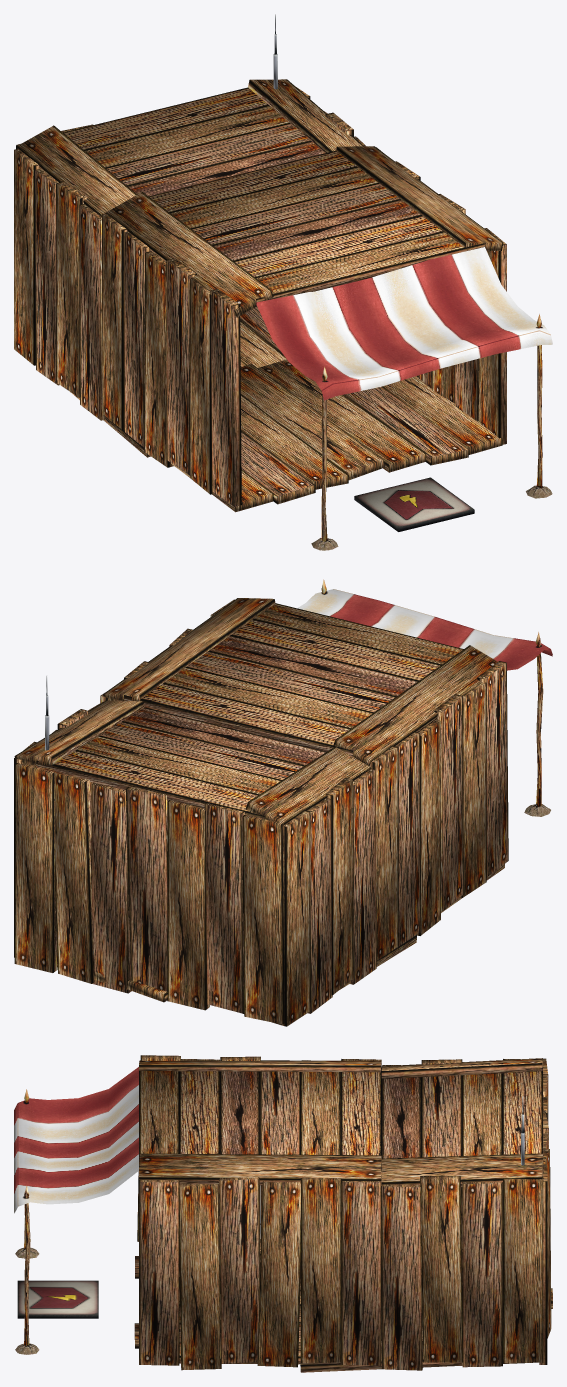
Rendered from coconutShy.fbx.
3 views of the same model, one above another, from view 1: azimuth 30°, elevation 25°; view 2: azimuth 150°, elevation 25°; view 3: azimuth 270°, elevation 25° (orthographic). The views are drawn at different scales.
Parts seen in each view (by area): view 1: coconutShy, mat; view 2: coconutShy; view 3: coconutShy, mat.
Boxes of the visible parts, x1,y1,x2,y2 form: coconutShy: [14, 14, 552, 550]; mat: [354, 477, 474, 531]; coconutShy: [14, 579, 552, 1026]; coconutShy: [14, 1055, 552, 1372]; mat: [17, 1280, 98, 1318].
Bounding box in the file's own units: 5.02 × 5.1 × 9.2.
